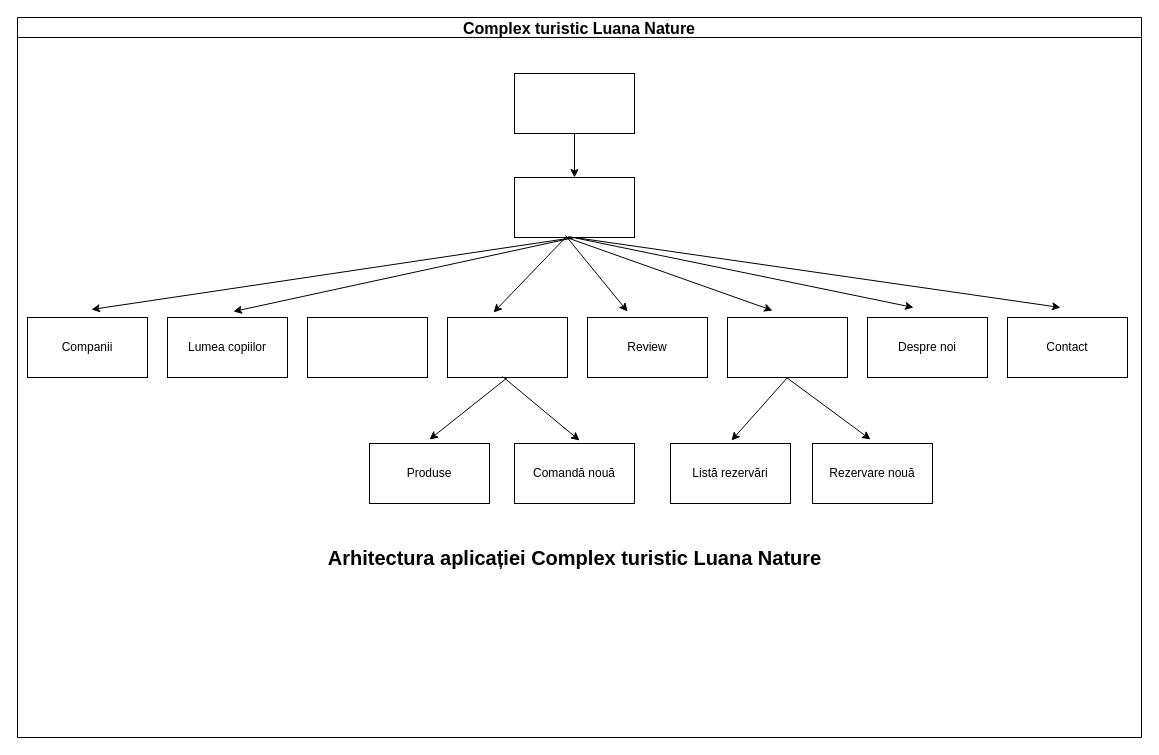
The diagram is 1159 pixels wide and 755 high, and some of its shapes have lost their labels. Each missing label, with the box of its shape:
Catering: (306, 316, 428, 378)
Index: (514, 72, 634, 134)
Magazin: (446, 316, 568, 378)
MainPage: (514, 176, 634, 238)
Rezervări: (726, 316, 848, 378)
